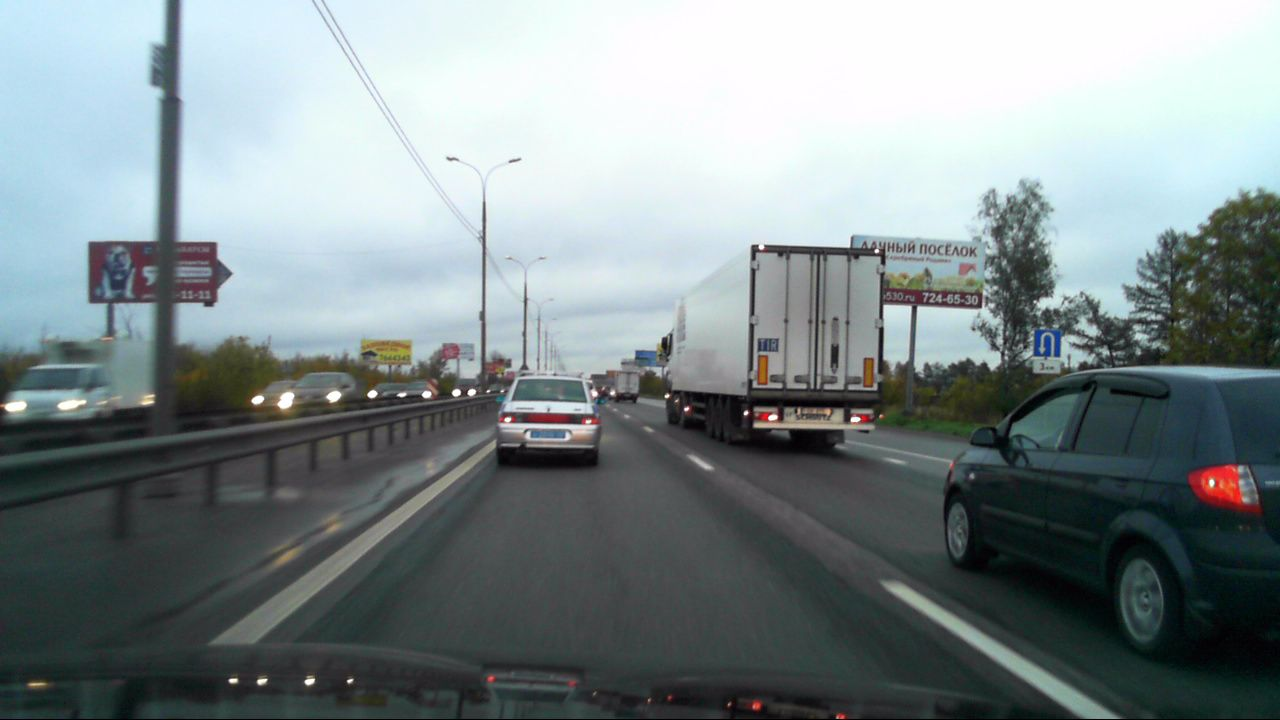U-turn: (1035, 329, 1061, 357)
